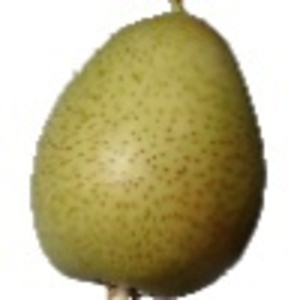pera: (29, 1, 267, 300)
